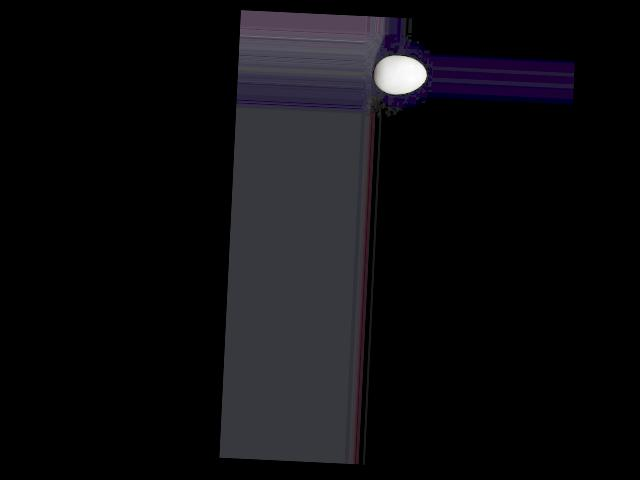egg: (372, 54, 427, 94)
